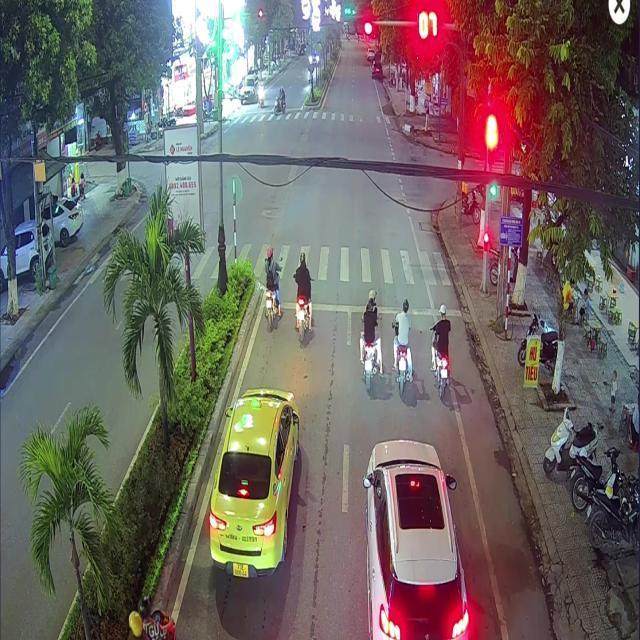car: (361, 438, 468, 638), (208, 387, 299, 576)
motobike: (358, 289, 382, 393), (390, 297, 412, 396), (290, 247, 311, 343), (429, 302, 449, 398), (263, 244, 281, 330)
red_light: (484, 110, 498, 172), (345, 13, 372, 38)
stop_line: (262, 299, 460, 316)
